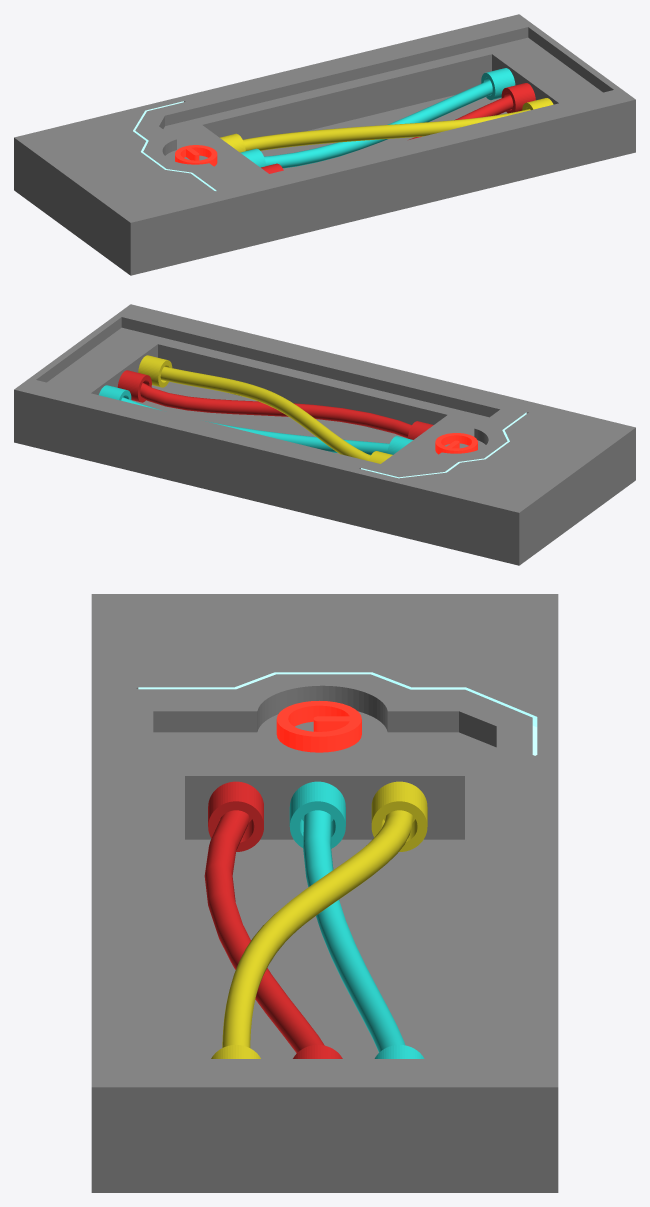
Rendered from generator_temp.fbx.
The picture shows the model from 3 angles, top to bottom: view 1: azimuth 30°, elevation 25°; view 2: azimuth 150°, elevation 25°; view 3: azimuth 270°, elevation 25°; orthographic projection. The views are drawn at different scales.
Visible parts, largest first — view 1: panel, yellow wire, blue wire, port, button, red wire; view 2: panel, red wire, yellow wire, port, blue wire, button; view 3: panel, port, yellow wire, red wire, blue wire, button.
Boxes of the visible parts, x1,y1,x2,y2 form: panel: (14, 14, 635, 275); yellow wire: (243, 109, 530, 150); blue wire: (264, 80, 492, 168); port: (220, 68, 553, 173); button: (175, 145, 217, 166); red wire: (409, 95, 513, 139); panel: (14, 304, 635, 565); red wire: (140, 383, 411, 438); yellow wire: (160, 366, 370, 460); port: (99, 355, 433, 463); blue wire: (121, 397, 389, 455); button: (435, 433, 477, 454); panel: (91, 594, 558, 1192); port: (208, 781, 427, 1058); yellow wire: (222, 810, 413, 1047); red wire: (204, 810, 324, 1053); blue wire: (303, 810, 405, 1052); button: (276, 700, 361, 752).
Bounding box in the file's own units: 500 × 50 × 200.
